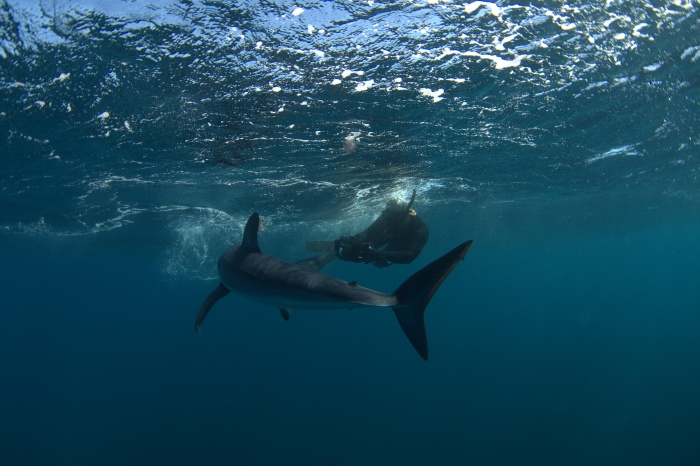Mako: (187, 208, 484, 375)
